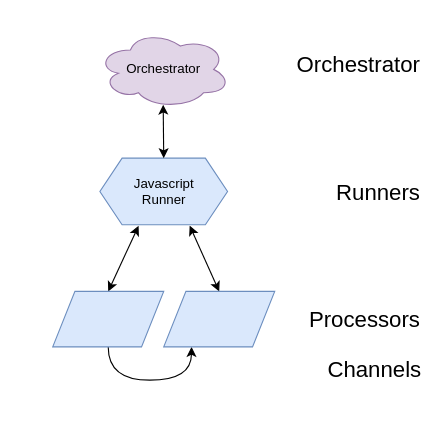
The diagram is 448 pixels wide and 432 high, and some of its shapes have lost their labels. The centre of each missing label's shape, as x and y in pixels:
"Logger" goes at (219,318).
"Read File" goes at (108,318).
